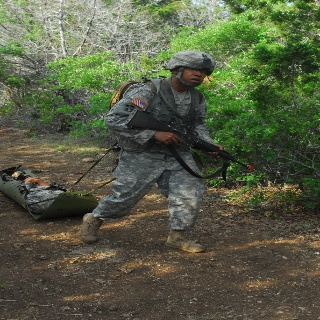rifle: (124, 107, 254, 176)
